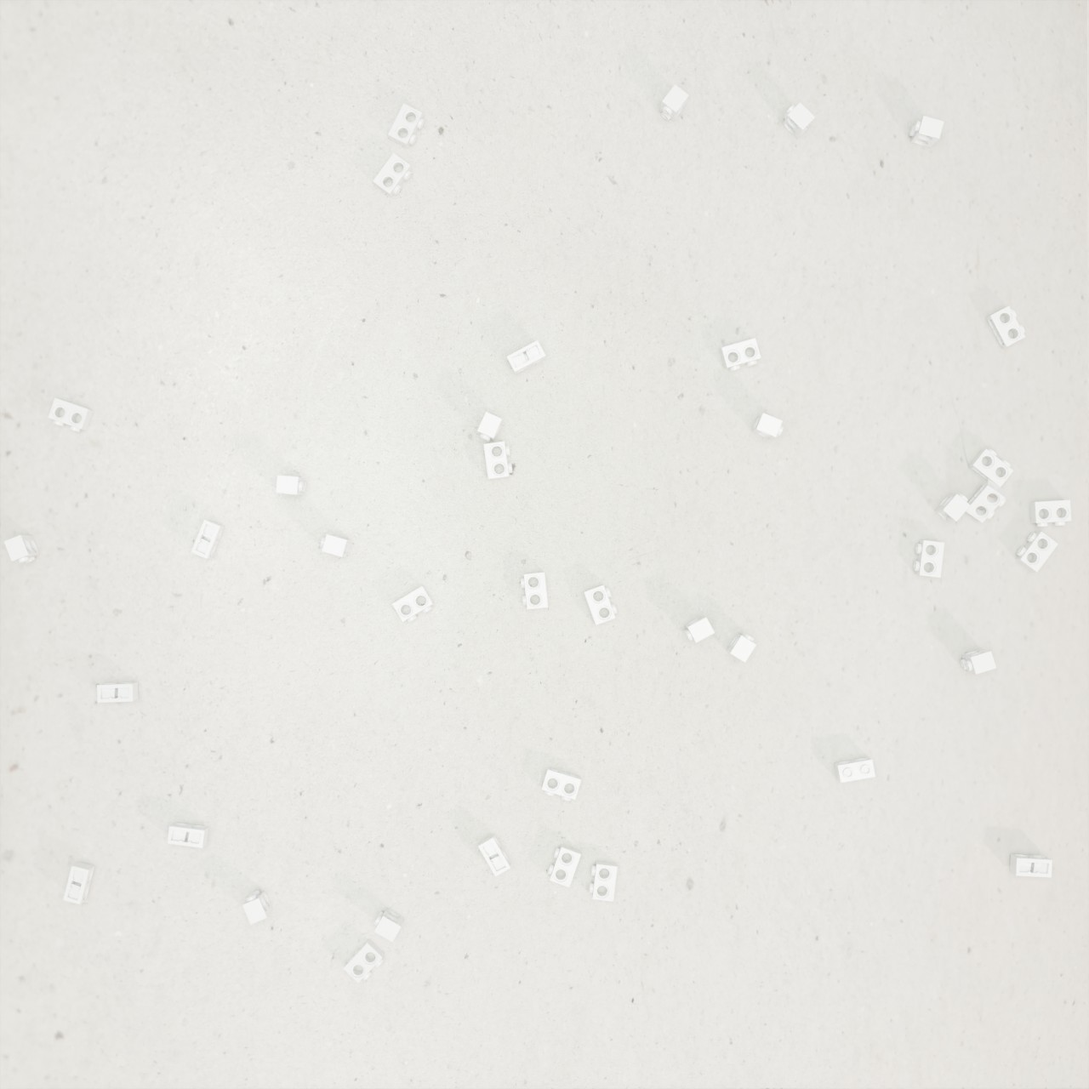lego: (343, 938, 384, 983), (968, 448, 1014, 488), (965, 479, 1006, 523), (985, 306, 1026, 349), (1015, 531, 1058, 572), (373, 153, 412, 198), (388, 103, 425, 149), (392, 585, 434, 623), (48, 398, 93, 432), (547, 844, 581, 888), (478, 833, 511, 877), (583, 584, 618, 625), (63, 861, 95, 905), (506, 340, 546, 375), (719, 338, 761, 371), (191, 519, 225, 559), (542, 767, 581, 801), (782, 102, 815, 139), (913, 540, 945, 578), (589, 861, 618, 902), (483, 441, 513, 480), (659, 84, 689, 122), (834, 756, 876, 783), (1029, 500, 1071, 527), (909, 116, 944, 148), (167, 822, 209, 848), (373, 908, 405, 942), (242, 890, 273, 925), (934, 494, 971, 522), (520, 572, 548, 609), (4, 535, 40, 563), (1010, 854, 1052, 878), (726, 632, 757, 663), (960, 649, 997, 674), (751, 413, 784, 440), (97, 682, 139, 703), (684, 615, 715, 643), (477, 411, 503, 442), (320, 534, 351, 557), (276, 475, 307, 496)
